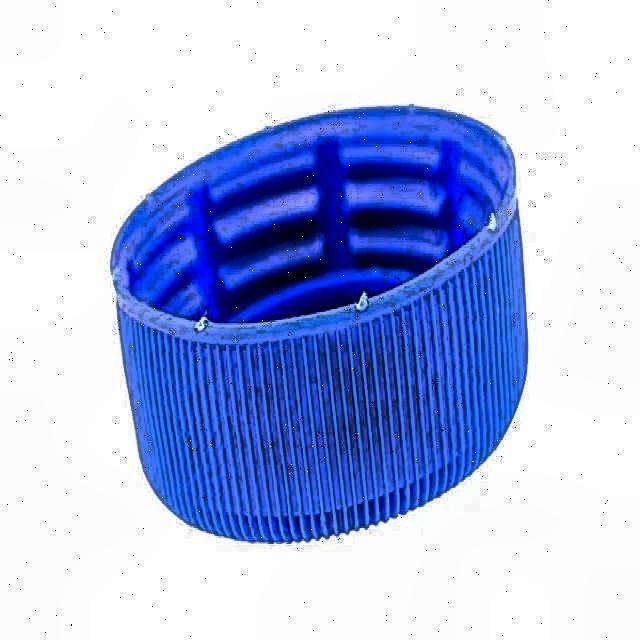plastic: (108, 104, 531, 547)
